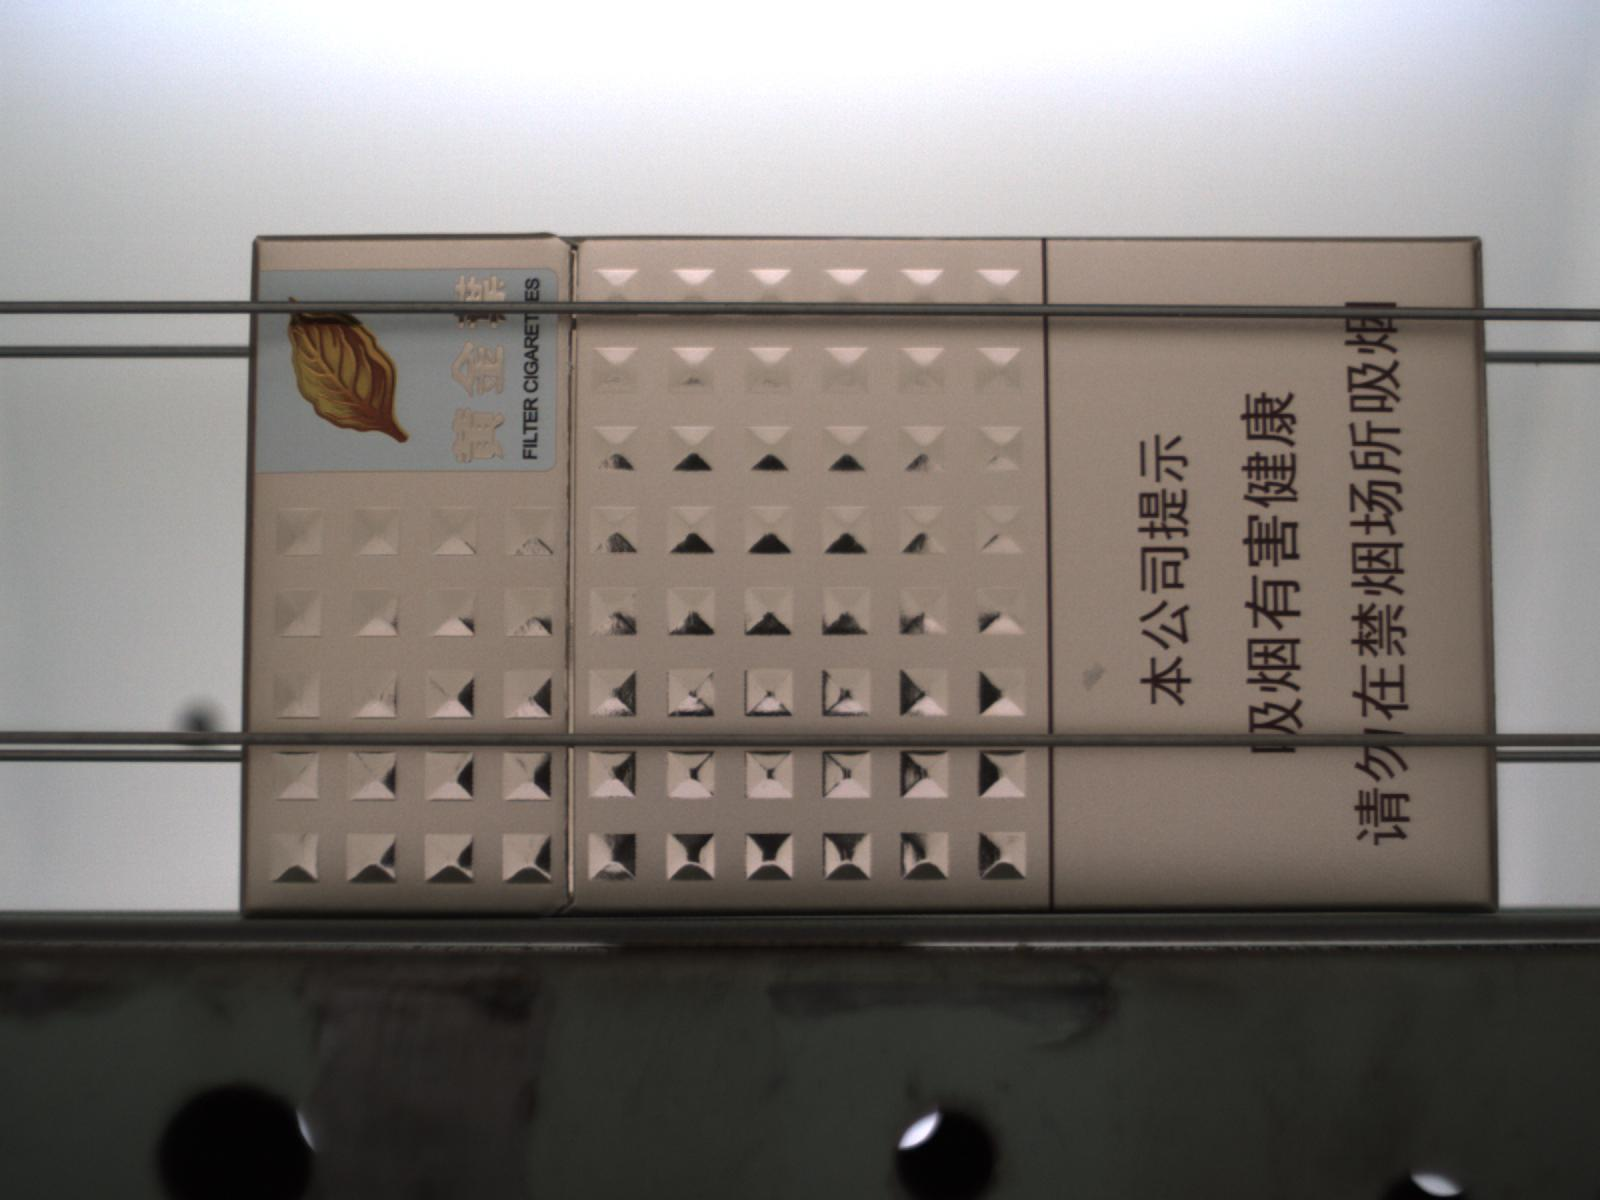gumDirt: (1082, 661, 1107, 691)
